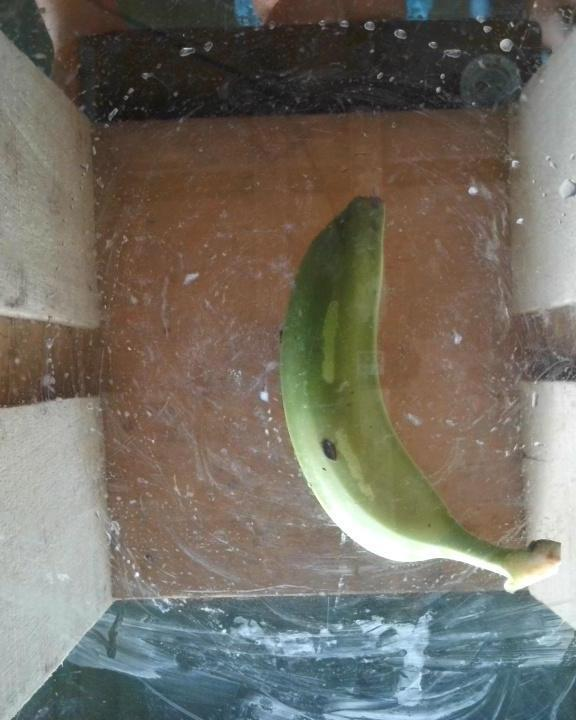CLASS B: (270, 193, 569, 598)
Class A: (312, 433, 355, 469)
